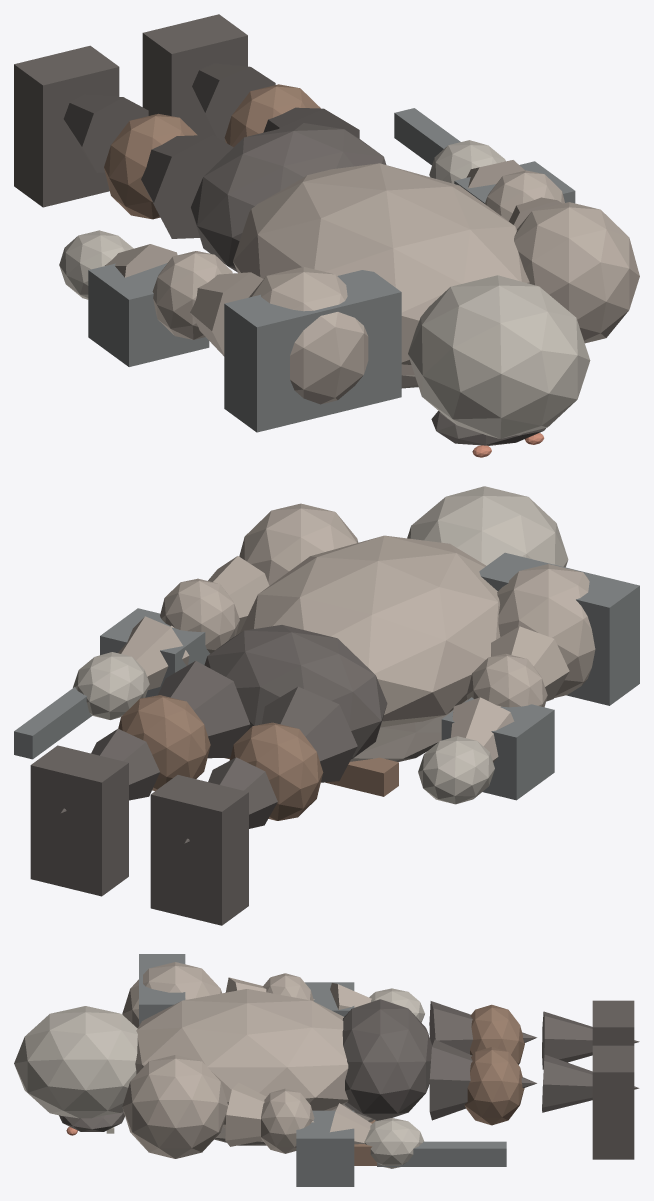
The model's file is afterfall_butcher.glb.
3 views of the same model, one above another, from view 1: azimuth 30°, elevation 25°; view 2: azimuth 150°, elevation 25°; view 3: azimuth 270°, elevation 25° (orthographic). The views are drawn at different scales.
Parts seen in each view (by area): view 1: 00_torso, 03_head, 28_shoulder_plate, 23_boot, 14_shoulder, 02_pelvis, 08_shoulder, 27_boot, 12_metal_bracer, 20_thigh, 21_knee, 10_elbow (+14 smaller); view 2: 00_torso, 27_boot, 23_boot, 02_pelvis, 03_head, 28_shoulder_plate, 08_shoulder, 14_shoulder, 21_knee, 25_knee, 12_metal_bracer, 24_thigh (+15 smaller); view 3: 00_torso, 03_head, 02_pelvis, 14_shoulder, 27_boot, 18_metal_bracer, 25_knee, 24_thigh, 16_elbow, 29_cleaver_blade, 08_shoulder, 26_shin (+15 smaller).
Boxes of the visible parts, bbox=[...] form: 00_torso: bbox=[233, 163, 529, 374]; 03_head: bbox=[408, 275, 590, 438]; 28_shoulder_plate: bbox=[224, 270, 401, 432]; 23_boot: bbox=[14, 45, 119, 207]; 14_shoulder: bbox=[514, 202, 639, 343]; 02_pelvis: bbox=[191, 123, 386, 272]; 08_shoulder: bbox=[249, 267, 368, 404]; 27_boot: bbox=[142, 14, 247, 142]; 12_metal_bracer: bbox=[88, 263, 209, 366]; 20_thigh: bbox=[141, 135, 233, 238]; 21_knee: bbox=[104, 113, 197, 219]; 10_elbow: bbox=[152, 251, 232, 339]; 00_torso: bbox=[240, 535, 500, 727]; 27_boot: bbox=[30, 745, 128, 896]; 23_boot: bbox=[150, 775, 248, 925]; 02_pelvis: bbox=[204, 625, 387, 759]; 03_head: bbox=[407, 486, 568, 567]; 28_shoulder_plate: bbox=[479, 552, 639, 705]; 08_shoulder: bbox=[497, 564, 595, 697]; 14_shoulder: bbox=[239, 503, 358, 585]; 21_knee: bbox=[229, 722, 323, 820]; 25_knee: bbox=[118, 695, 210, 790]; 12_metal_bracer: bbox=[441, 697, 554, 800]; 24_thigh: bbox=[158, 661, 250, 758]; 00_torso: bbox=[135, 989, 348, 1127]; 03_head: bbox=[14, 1006, 137, 1118]; 02_pelvis: bbox=[342, 999, 432, 1120]; 14_shoulder: bbox=[122, 1055, 228, 1158]; 27_boot: bbox=[592, 1045, 634, 1159]; 18_metal_bracer: bbox=[296, 1110, 354, 1186]; 25_knee: bbox=[464, 1047, 524, 1125]; 24_thigh: bbox=[429, 1039, 536, 1120]; 16_elbow: bbox=[260, 1088, 314, 1153]; 29_cleaver_blade: bbox=[377, 1141, 506, 1166]; 08_shoulder: bbox=[122, 962, 221, 1027]; 26_shin: bbox=[542, 1054, 639, 1112].
Size of the model in its own units: 2.22 by 0.8225 by 3.76.
